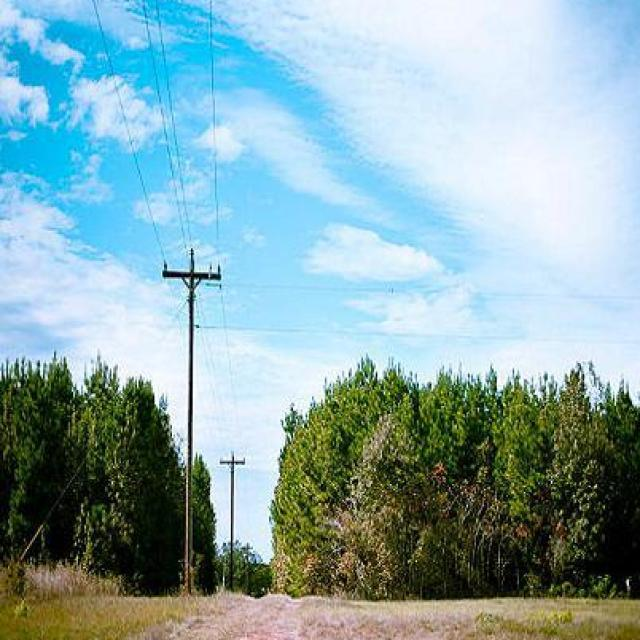non-critical vegetation: (140, 245, 231, 584)
